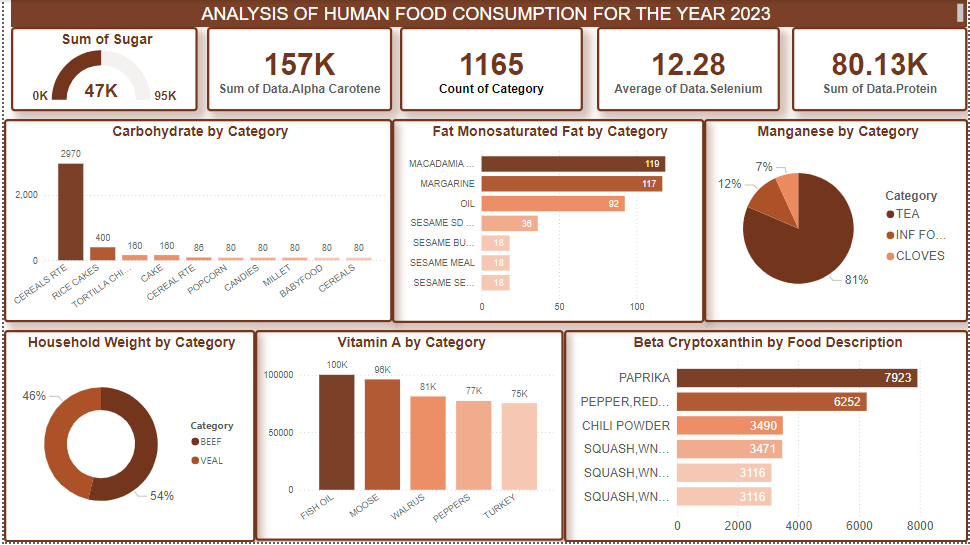

This screenshot's page, from the dashboard's own definition file:
{"tool":"powerbi","page":{"name":"Page 1","canvas":[1280,720],"ordinal":0},"visuals":[{"type":"barChart","title":"Beta Cryptoxanthin by Food Description","fields":{"Y":["Sum(food1.Data.Beta Cryptoxanthin)"],"Category":["food1.Description"]},"box":[743.9,438.4,536.7,281.6],"z":0},{"type":"columnChart","title":"Carbohydrate by Category","fields":{"Category":["food1.Category"],"Y":["Sum(food1.Data.Carbohydrate)"]},"box":[0,157.9,515.6,269.7],"z":1000},{"type":"clusteredBarChart","title":"Fat Monosaturated Fat by Category","fields":{"Category":["food1.Category"],"Y":["Sum(food1.Data.Fat.Monosaturated Fat)"]},"box":[515.1,157.7,414.6,270.8],"z":2000},{"type":"pieChart","title":"Manganese by Category","fields":{"Category":["food1.Category"],"Y":["Sum(food1.Data.Manganese)"]},"box":[929.9,158.1,350.7,269.7],"z":3000},{"type":"textbox","box":[9.7,0,1270.3,36],"z":4000},{"type":"donutChart","title":"Household Weight by Category","fields":{"Category":["food1.Category"],"Y":["Sum(food1.Data.Household Weights.1st Household Weight)"]},"box":[0,438.3,333.6,282],"z":5000},{"type":"clusteredColumnChart","title":"Vitamin A by Category","fields":{"Category":["food1.Category"],"Y":["Sum(food1.Data.Vitamins.Vitamin A - IU)"]},"box":[333.4,438.4,410.5,280.3],"z":6000},{"type":"gauge","title":"Sum of Sugar ","fields":{"Y":["Sum(food1.Data.Sugar Total)"]},"box":[9.8,36.3,248.5,111.7],"z":6001},{"type":"card","fields":{"Values":["Sum(food1.Data.Alpha Carotene)"]},"box":[269.4,36.3,245.7,111.7],"z":6002},{"type":"card","fields":{"Values":["Count(food1.Category)"]},"box":[526.2,36.3,242.9,111.7],"z":6003},{"type":"card","fields":{"Values":["Avg(food1.Data.Selenium)"]},"box":[787.3,36.3,242.9,111.7],"z":6004},{"type":"card","fields":{"Values":["Sum(food1.Data.Protein)"]},"box":[1046.9,36.3,233.1,111.7],"z":6005}]}

Visuals, with their boxes in screenshot pixels (x1, y1, x2, y2), scaled from the page's 1280x720 canvas onto the 970x545 screenshot:
"Beta Cryptoxanthin by Food Description" barChart: (left=564, top=332, right=969, bottom=544)
"Carbohydrate by Category" columnChart: (left=0, top=120, right=391, bottom=324)
"Fat Monosaturated Fat by Category" clusteredBarChart: (left=390, top=119, right=705, bottom=324)
"Manganese by Category" pieChart: (left=705, top=120, right=969, bottom=324)
textbox: (left=7, top=0, right=969, bottom=27)
"Household Weight by Category" donutChart: (left=0, top=332, right=253, bottom=544)
"Vitamin A by Category" clusteredColumnChart: (left=253, top=332, right=564, bottom=544)
"Sum of Sugar " gauge: (left=7, top=27, right=196, bottom=112)
card - Sum(food1.Data.Alpha Carotene): (left=204, top=27, right=390, bottom=112)
card - Count(food1.Category): (left=399, top=27, right=583, bottom=112)
card - Avg(food1.Data.Selenium): (left=597, top=27, right=781, bottom=112)
card - Sum(food1.Data.Protein): (left=793, top=27, right=969, bottom=112)
